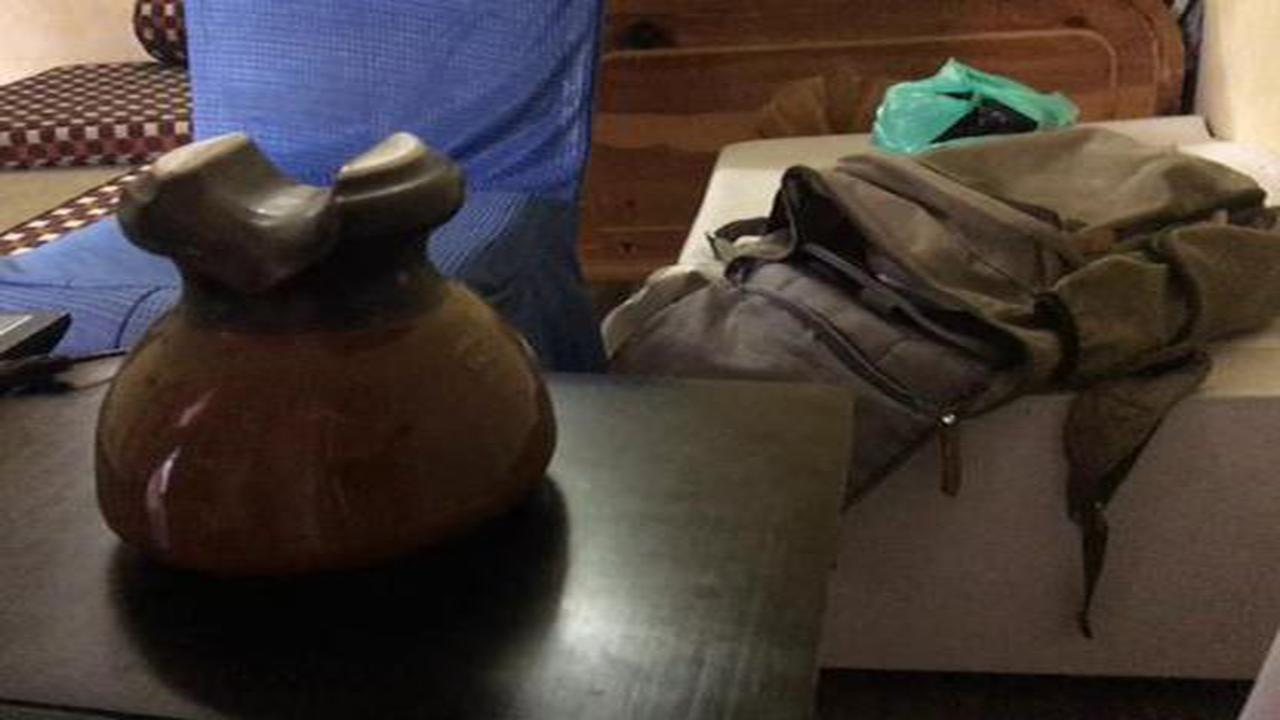insulator_pin: (77, 125, 554, 620)
